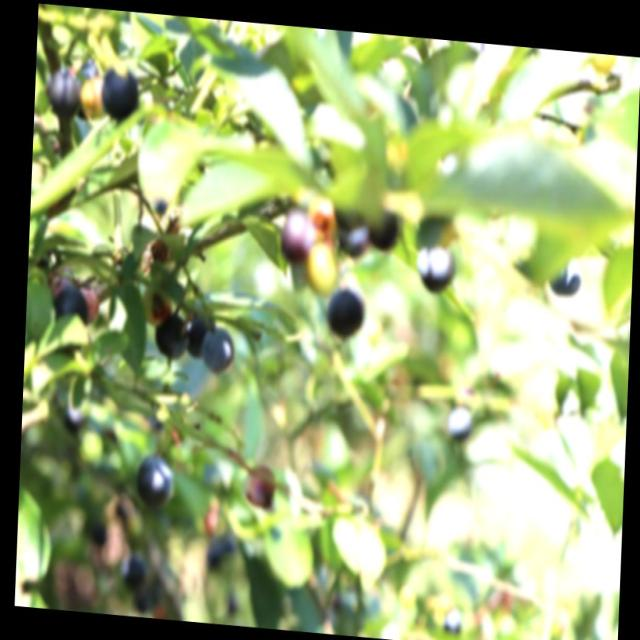blueberry: (323, 278, 368, 348), (50, 278, 92, 348), (134, 449, 177, 509), (97, 64, 140, 122), (276, 205, 316, 265), (417, 233, 458, 291), (198, 322, 237, 377), (152, 303, 188, 361), (332, 208, 369, 264), (181, 296, 214, 358), (45, 64, 82, 118), (543, 253, 582, 297), (370, 214, 401, 254), (447, 405, 470, 444)
blueberry-unripe: (301, 236, 340, 297), (76, 67, 115, 125), (304, 195, 336, 238)
